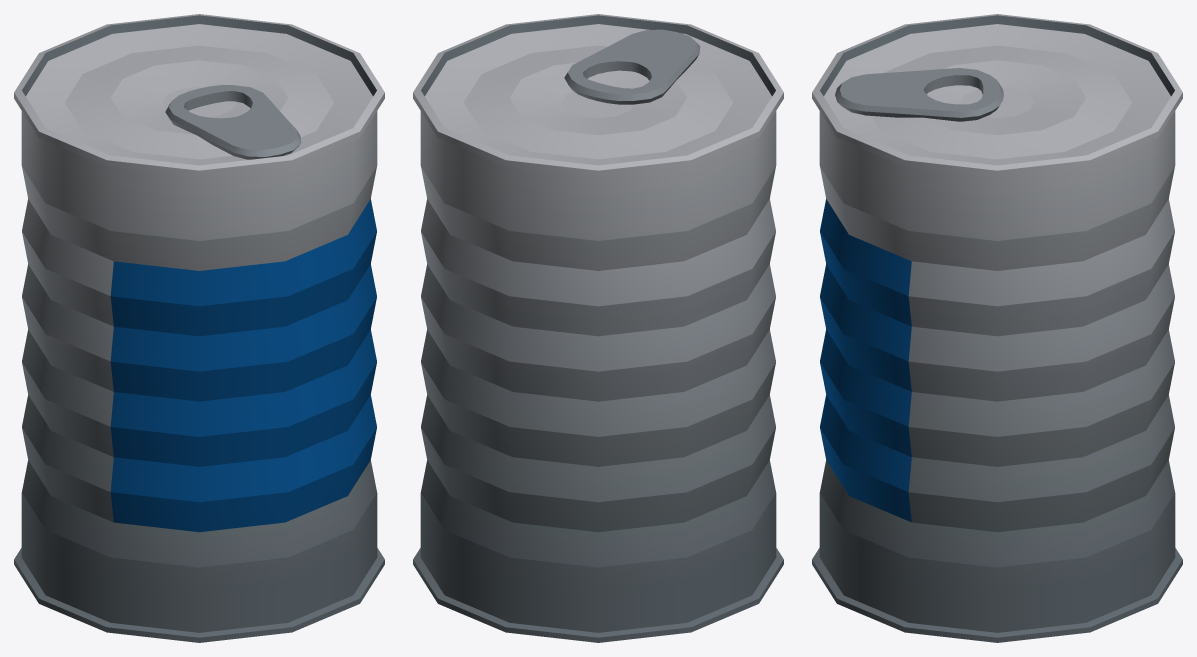
Rendered from Tin_01.fbx.
3 renders of one model, left to right at view 1: azimuth 30°, elevation 25°; view 2: azimuth 150°, elevation 25°; view 3: azimuth 270°, elevation 25°, orthographic.
Visible parts, largest first — view 1: Tin_01; view 2: Tin_01; view 3: Tin_01.
Boxes of the visible parts, box(x1,y1,x2,y2) form: Tin_01: box(14, 14, 384, 642); Tin_01: box(413, 14, 783, 642); Tin_01: box(812, 14, 1182, 642).
Bounding box in the file's own units: 107 × 107 × 152.
